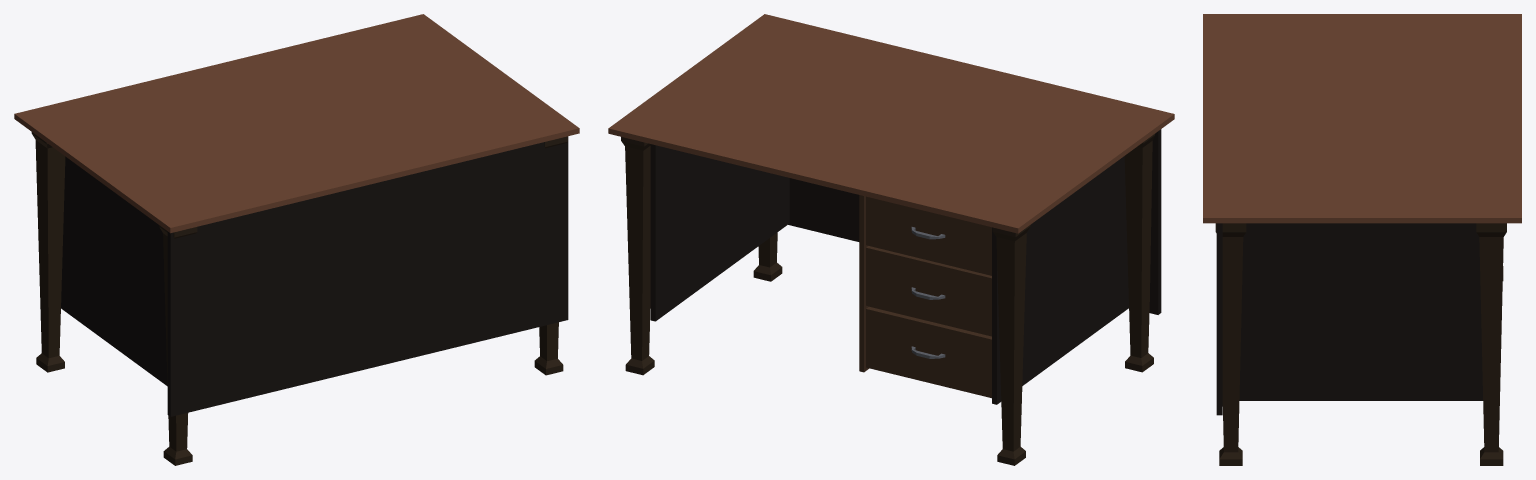
The model's file is desk-2.fbx.
The picture shows the model from 3 angles, left to right: view 1: azimuth 30°, elevation 25°; view 2: azimuth 150°, elevation 25°; view 3: azimuth 270°, elevation 25°; orthographic projection. The views are drawn at different scales.
Visible parts, largest first — view 1: lato3, piano, lato1, zampe1, zampe, zampe3; view 2: piano, lato1, lato, cassetti3, cassetti2, cassetti1, zampe1, zampe2, zampe, lato3, lato2, zampe3; view 3: piano, lato, zampe2, zampe3, lato3.
Part boxes in pixels (left/top/right/bottom): lato3: left=167, top=136, right=568, bottom=416; piano: left=14, top=14, right=579, bottom=233; lato1: left=61, top=156, right=167, bottom=386; zampe1: left=31, top=132, right=65, bottom=372; zampe: left=159, top=225, right=197, bottom=465; zampe3: left=534, top=136, right=567, bottom=375; piano: left=608, top=14, right=1174, bottom=233; lato1: left=992, top=156, right=1128, bottom=404; lato: left=650, top=144, right=789, bottom=321; cassetti3: left=866, top=307, right=991, bottom=398; cassetti2: left=866, top=246, right=991, bottom=336; cassetti1: left=866, top=196, right=991, bottom=275; zampe1: left=992, top=225, right=1030, bottom=465; zampe2: left=621, top=137, right=654, bottom=375; zampe: left=1124, top=134, right=1154, bottom=372; lato3: left=788, top=129, right=1161, bottom=314; lato2: left=859, top=195, right=925, bottom=372; zampe3: left=753, top=232, right=782, bottom=281; piano: left=1203, top=14, right=1521, bottom=223; lato: left=1239, top=223, right=1483, bottom=400; zampe2: left=1476, top=223, right=1506, bottom=465; zampe3: left=1215, top=223, right=1246, bottom=465; lato3: left=1216, top=223, right=1222, bottom=415.
Bounding box in the file's own units: 114 × 65.79 × 75.35.
